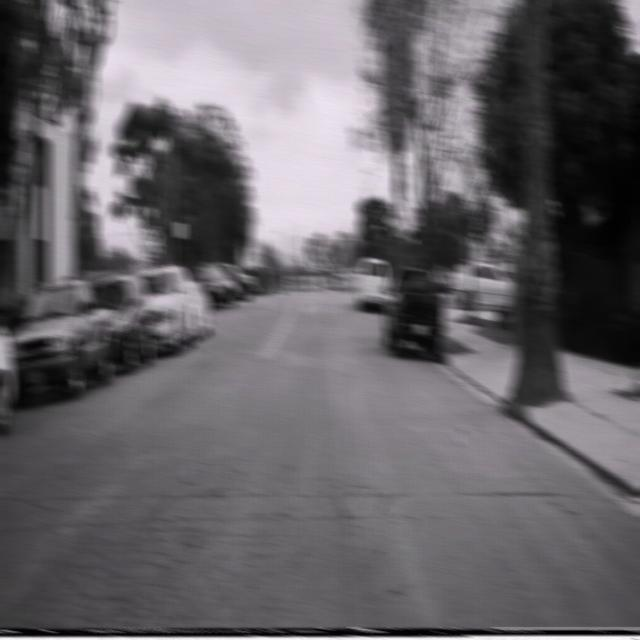stop_sign: (389, 208, 407, 238)
